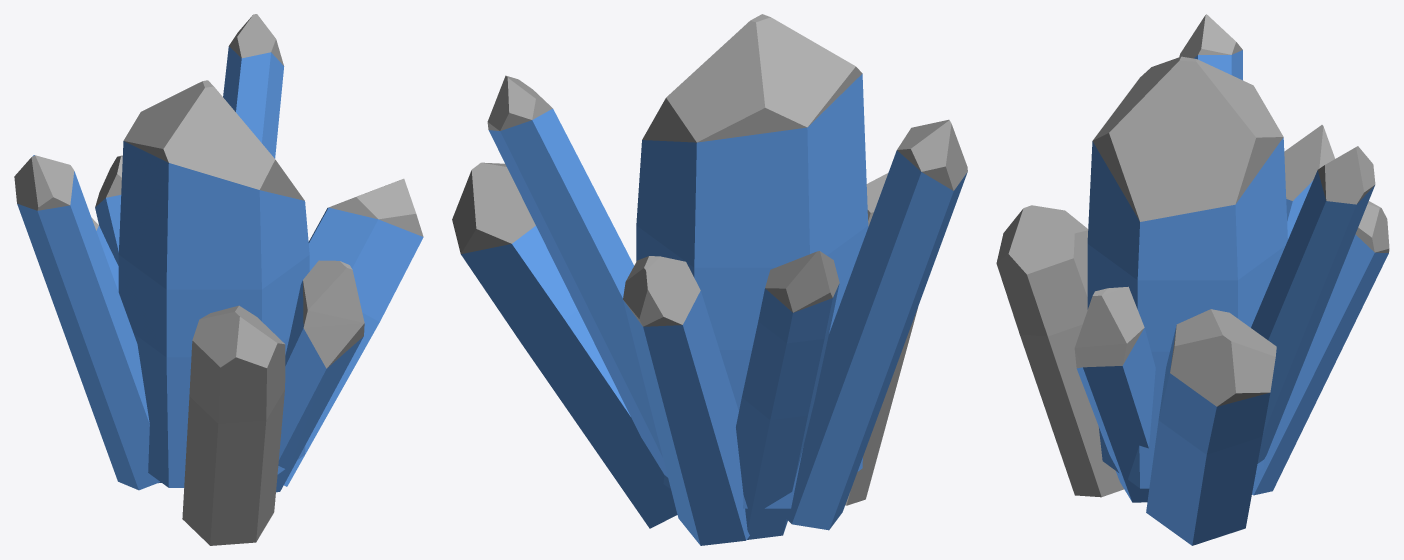
File: Crystals_l_01.fbx
3 views of the same model, side by side, from view 1: azimuth 30°, elevation 25°; view 2: azimuth 150°, elevation 25°; view 3: azimuth 270°, elevation 25° (orthographic). The views are drawn at different scales.
Visible parts, largest first — view 1: Crystals_l_01; view 2: Crystals_l_01; view 3: Crystals_l_01.
Part boxes in pixels (left/top/right/bottom): Crystals_l_01: left=14, top=14, right=423, bottom=545; Crystals_l_01: left=452, top=14, right=967, bottom=545; Crystals_l_01: left=996, top=14, right=1389, bottom=545.
Size of the model in its own units: 447 by 447 by 357.
